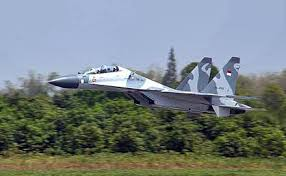maybay_muctieu: (44, 50, 261, 115)
